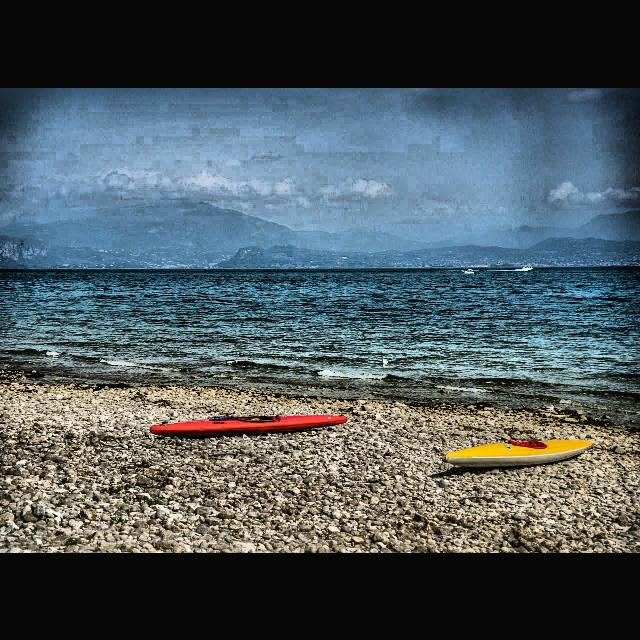kayak: (150, 412, 348, 438), (443, 437, 593, 469)
